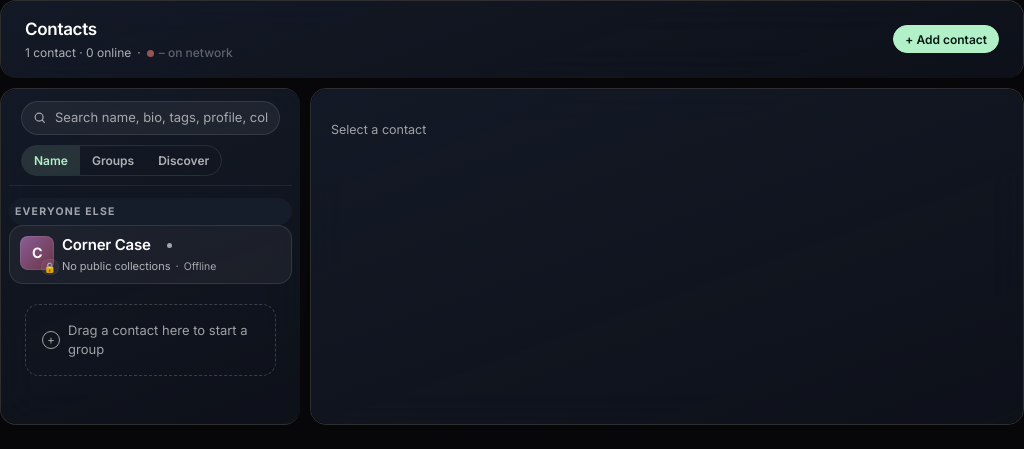
it: v0.24.0 item 2 — a selected contact card keeps its rounded corners › selecting a row adds no corner-changing state class to its block
Click the option with class "contact-card": (150,255) [9,226,292,284]
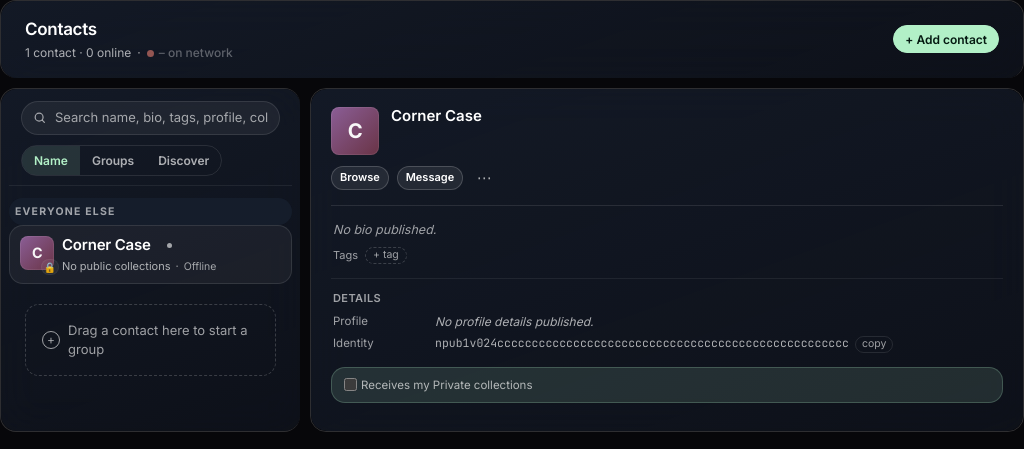
Now the 1st text "Corner Case" is shown, box [391,105,482,127]
